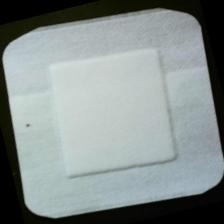Dressing: (1, 1, 224, 224)
F_Body: (19, 113, 47, 141)
